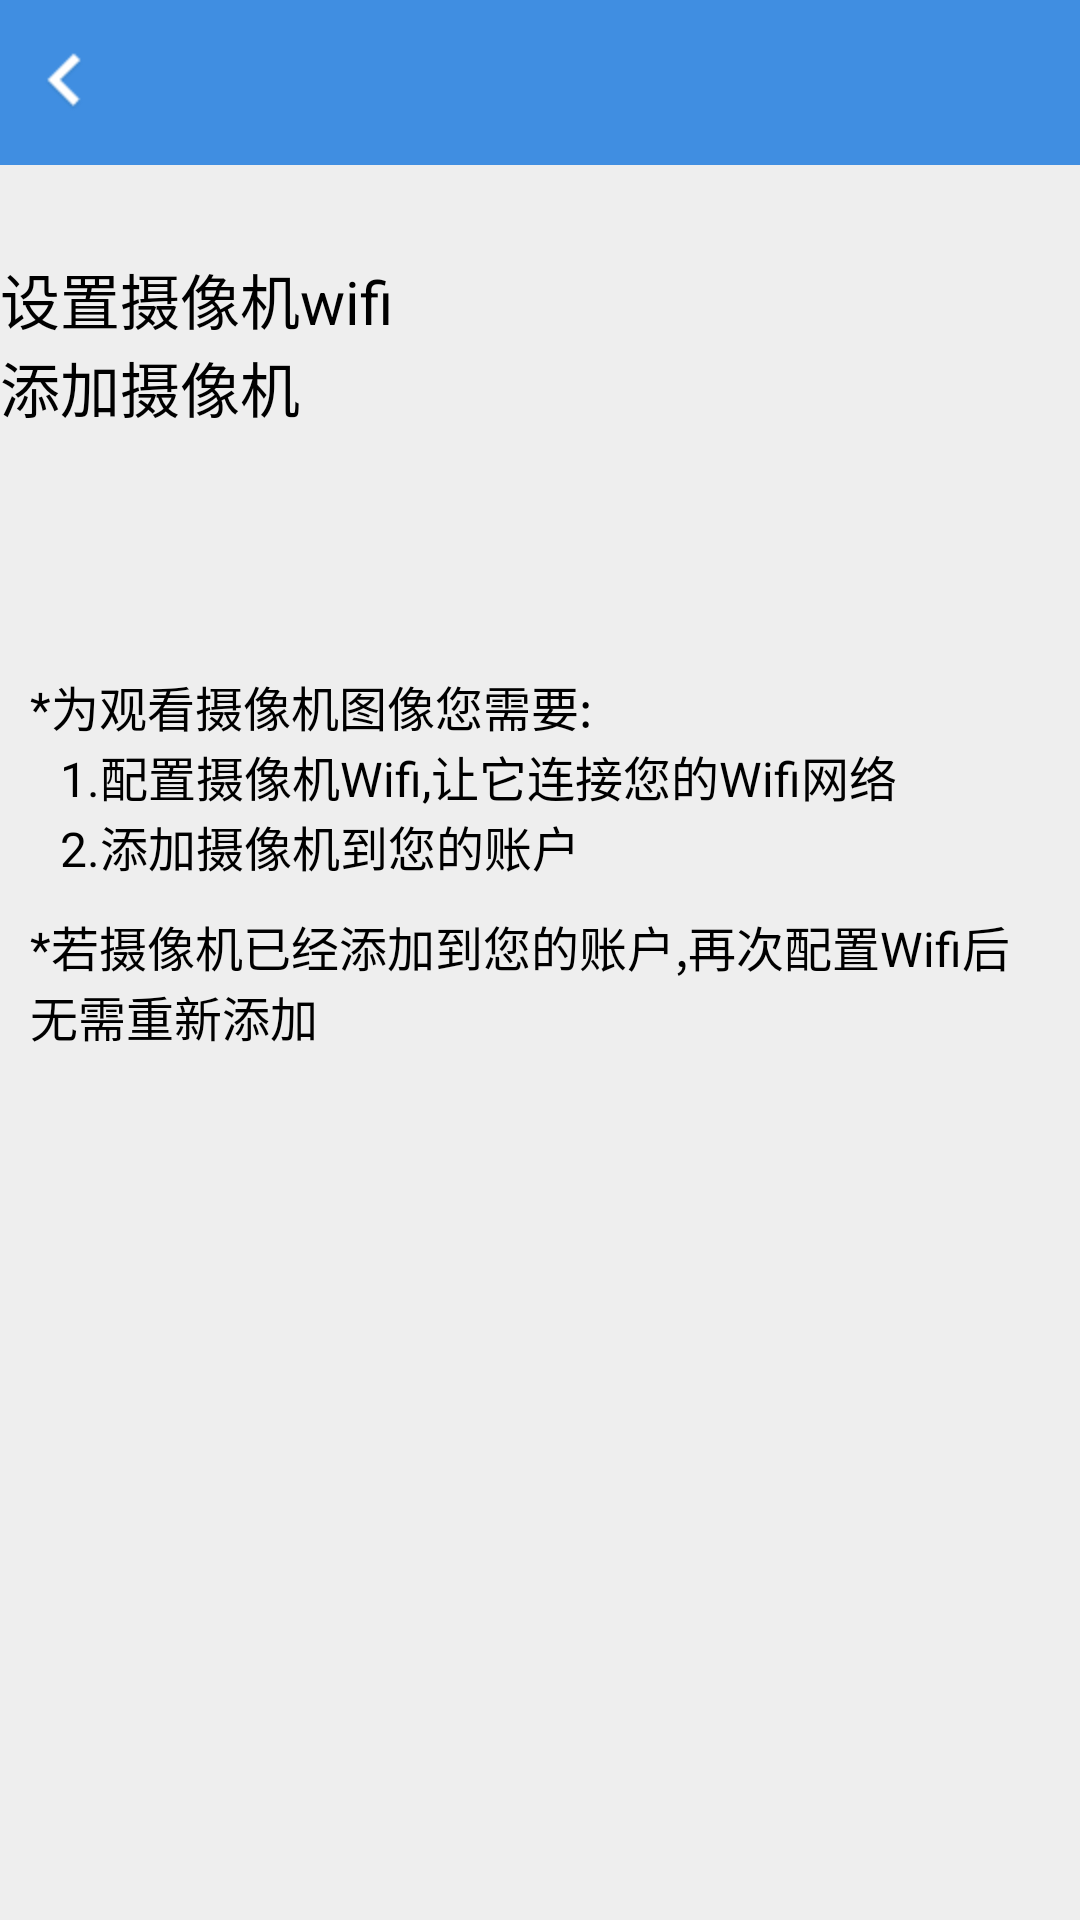

Named icons in this screenshot (1080px x 1920px) and their centers, (x,y):
back: (64,79)
